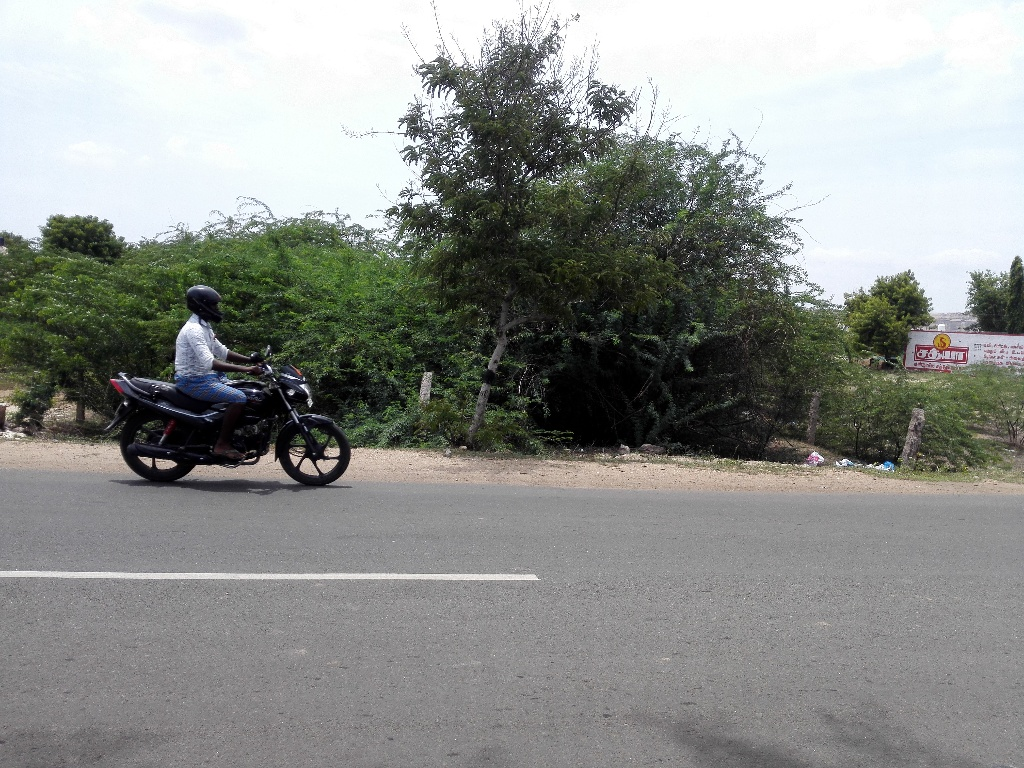biker: (91, 251, 367, 498)
helmet: (177, 276, 233, 332)
